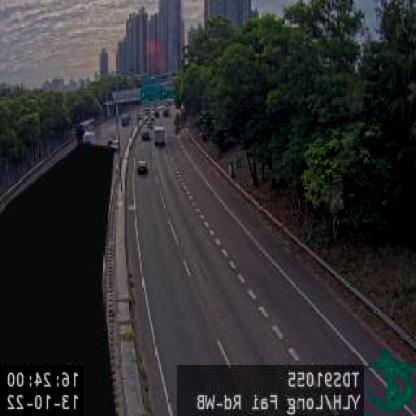Car: (136, 159, 148, 175), (110, 138, 120, 152), (141, 131, 151, 142)
Truck: (152, 126, 166, 148)
